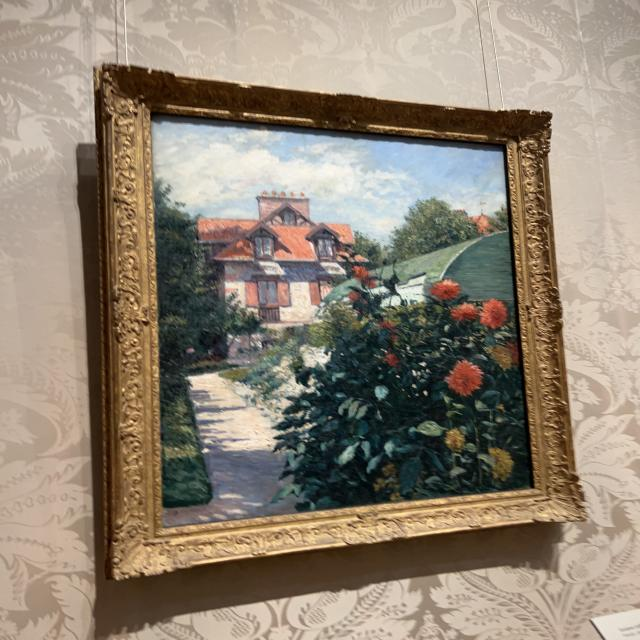summer: (156, 120, 529, 523)
